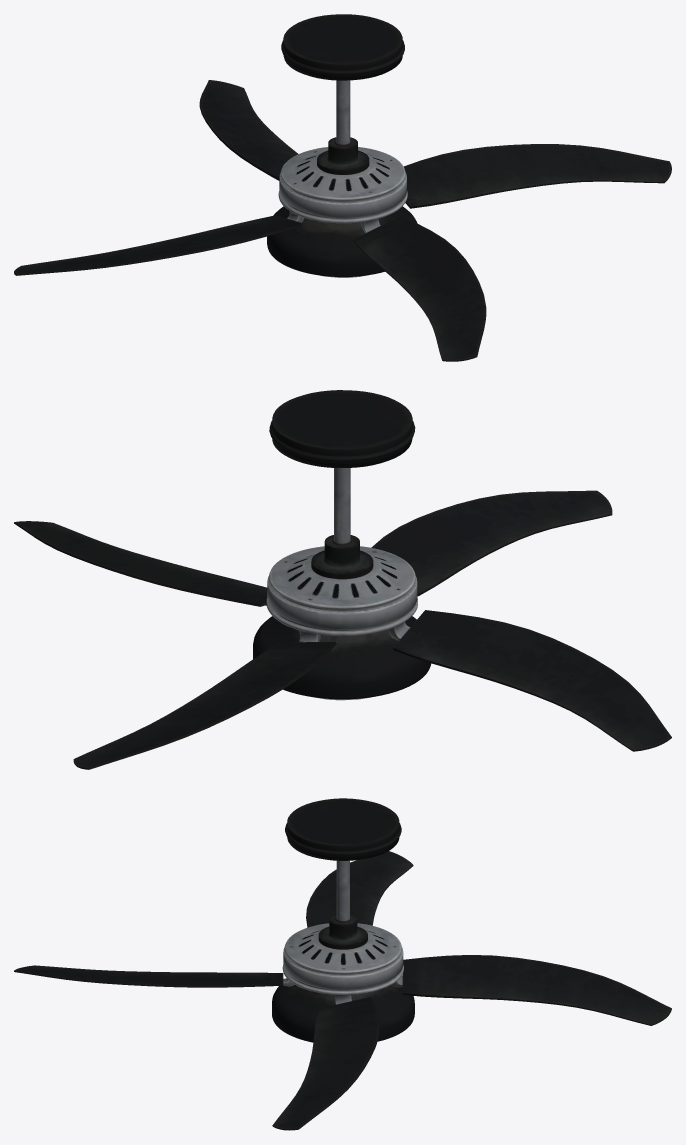
The model's file is ceiling_fan.glb.
The picture shows the model from 3 angles, top to bottom: view 1: azimuth 30°, elevation 25°; view 2: azimuth 150°, elevation 25°; view 3: azimuth 270°, elevation 25°; orthographic projection. The views are drawn at different scales.
Parts seen in each view (by area): view 1: ceiling_fan_blades, ceiling_fan; view 2: ceiling_fan_blades, ceiling_fan; view 3: ceiling_fan_blades, ceiling_fan.
Boxes of the visible parts, x1=… form: ceiling_fan_blades: x1=14, y1=80, x2=671, y2=361; ceiling_fan: x1=267, y1=14, x2=417, y2=277; ceiling_fan_blades: x1=14, y1=490, x2=671, y2=769; ceiling_fan: x1=253, y1=390, x2=431, y2=700; ceiling_fan_blades: x1=14, y1=851, x2=671, y2=1130; ceiling_fan: x1=272, y1=798, x2=414, y2=1042.
Size of the model in its own units: 1.46 by 0.5163 by 1.46.
1 material, 1 textured.
